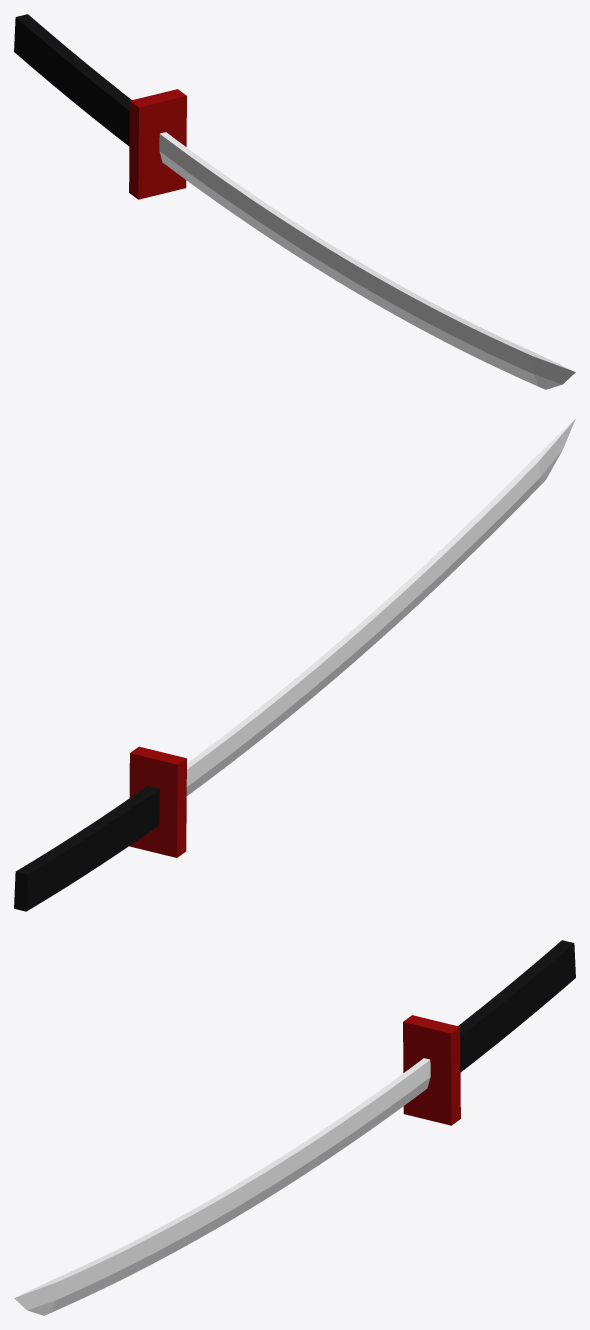
Rendered from Katana.FBX.
The picture shows the model from 3 angles, top to bottom: view 1: azimuth 30°, elevation 25°; view 2: azimuth 150°, elevation 25°; view 3: azimuth 330°, elevation 25°; orthographic projection.
Parts seen in each view (by area): view 1: SM_Katana01; view 2: SM_Katana01; view 3: SM_Katana01.
Boxes of the visible parts, x1=… form: SM_Katana01: x1=14, y1=14, x2=575, y2=389; SM_Katana01: x1=14, y1=418, x2=575, y2=911; SM_Katana01: x1=14, y1=940, x2=575, y2=1315.
Size of what is drawn, in the model's own units: 4.52 by 90.64 by 11.21.
